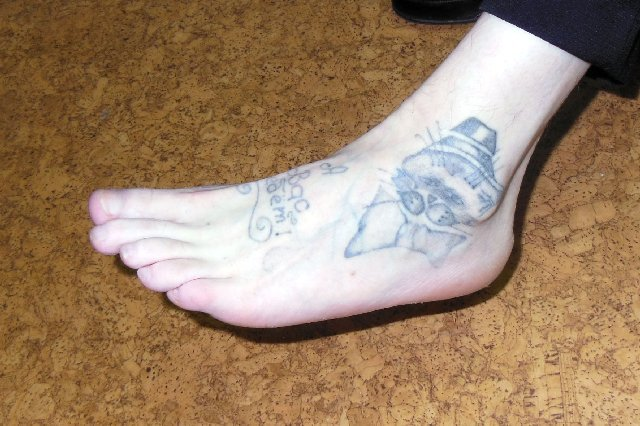tatu3_bukva: (246, 146, 351, 249)
tatu8_kot: (341, 116, 518, 256)
